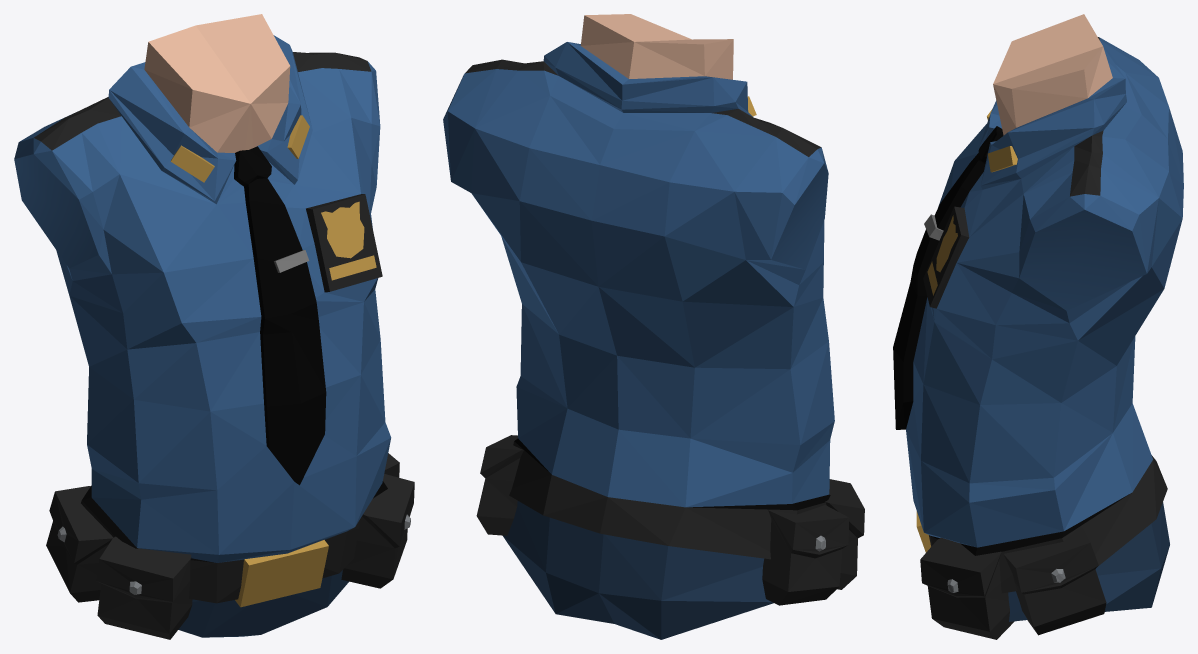
Rendered from Chest_Cop.glb.
3 renders of one model, left to right at view 1: azimuth 30°, elevation 25°; view 2: azimuth 150°, elevation 25°; view 3: azimuth 270°, elevation 25°, orthographic. The views are drawn at different scales.
Parts seen in each view (by area): view 1: polySurface2; view 2: polySurface2; view 3: polySurface2.
Boxes of the visible parts, x1,y1,x2,y2 form: polySurface2: (14, 14, 414, 639); polySurface2: (443, 14, 864, 639); polySurface2: (893, 14, 1183, 639).
Size of the model in its own units: 0.508 by 0.8056 by 0.3742.
Materials: 1 (1 with a texture image).
